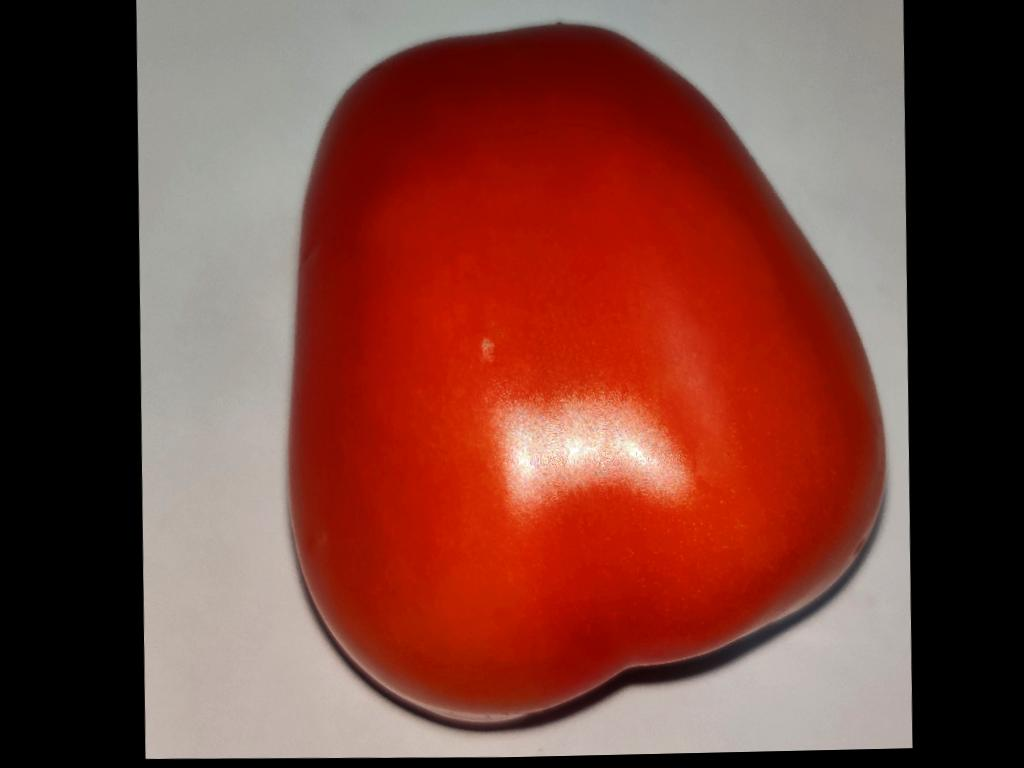tomato: (289, 25, 882, 722)
